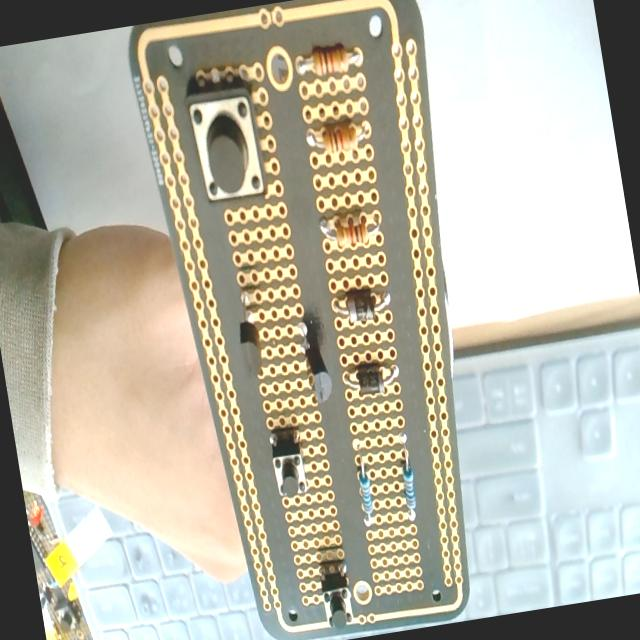diode: (332, 285, 392, 328), (344, 361, 401, 400)
resistor: (320, 208, 384, 248), (307, 120, 371, 160), (396, 434, 422, 520), (298, 42, 360, 78), (328, 269, 389, 300), (336, 326, 396, 357), (353, 455, 378, 528)
switch: (185, 84, 268, 206), (268, 430, 311, 501), (318, 562, 356, 632)
transistor: (296, 319, 336, 407), (232, 290, 268, 378)
